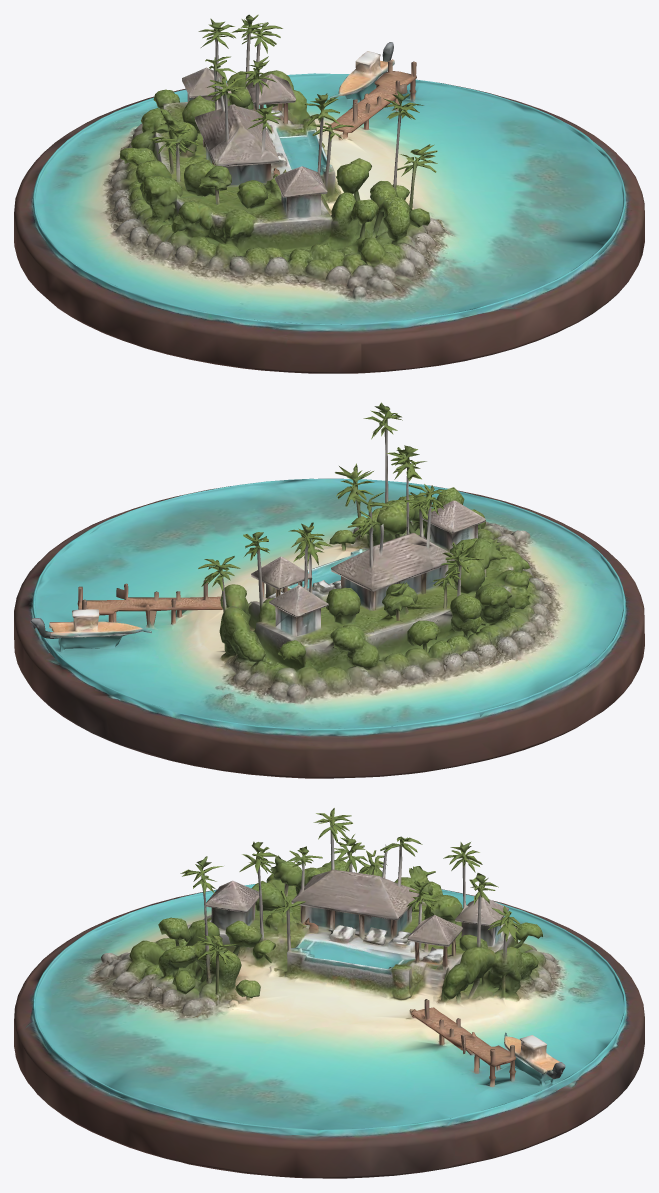
Rendered from home-island-hf.glb.
3 views of the same model, one above another, from view 1: azimuth 30°, elevation 25°; view 2: azimuth 150°, elevation 25°; view 3: azimuth 270°, elevation 25° (orthographic).
Visible parts, largest first — view 1: tripo_node_5cb43b26-bfc4-4171-a883-e2125480dd47; view 2: tripo_node_5cb43b26-bfc4-4171-a883-e2125480dd47; view 3: tripo_node_5cb43b26-bfc4-4171-a883-e2125480dd47.
Part boxes in pixels (bbox=[...]): tripo_node_5cb43b26-bfc4-4171-a883-e2125480dd47: bbox=[14, 14, 644, 373]; tripo_node_5cb43b26-bfc4-4171-a883-e2125480dd47: bbox=[14, 402, 644, 778]; tripo_node_5cb43b26-bfc4-4171-a883-e2125480dd47: bbox=[14, 808, 644, 1178].
Bounding box in the file's own units: 0.9983 × 0.3393 × 1.
Materials: 1 (1 with a texture image).
